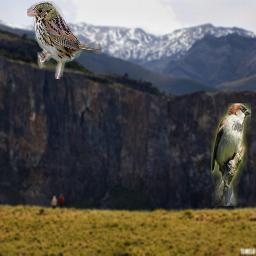Sparrow: (27, 1, 101, 79), (211, 103, 251, 206)
